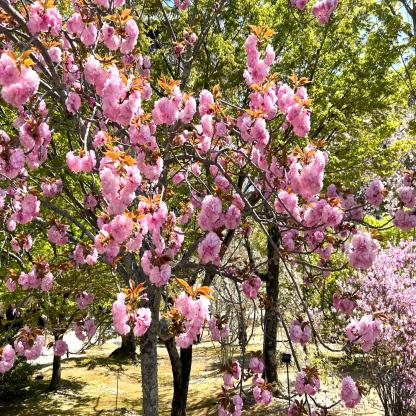YaeSakura: (157, 1, 349, 413), (0, 0, 161, 367), (349, 170, 416, 408)
